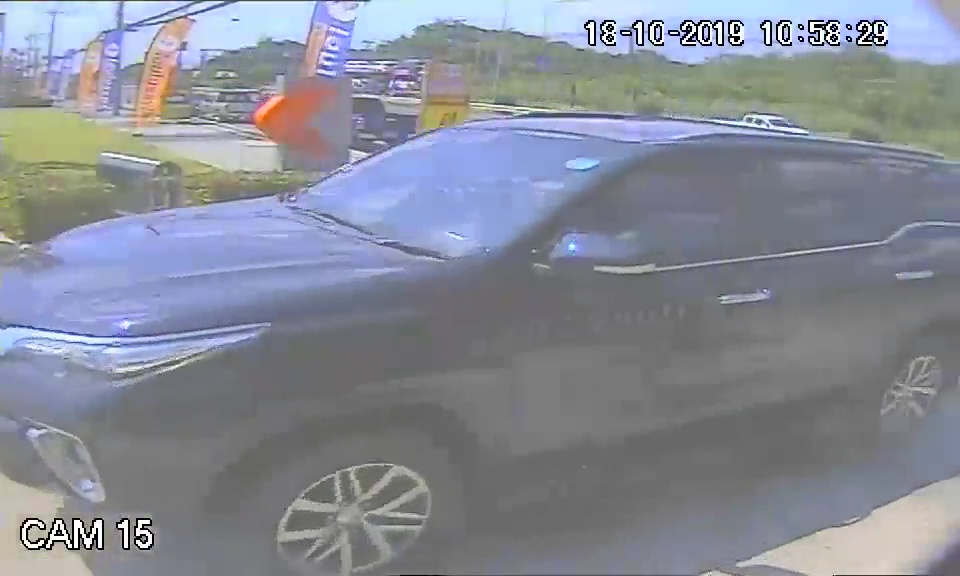pickup: (8, 100, 957, 514)
